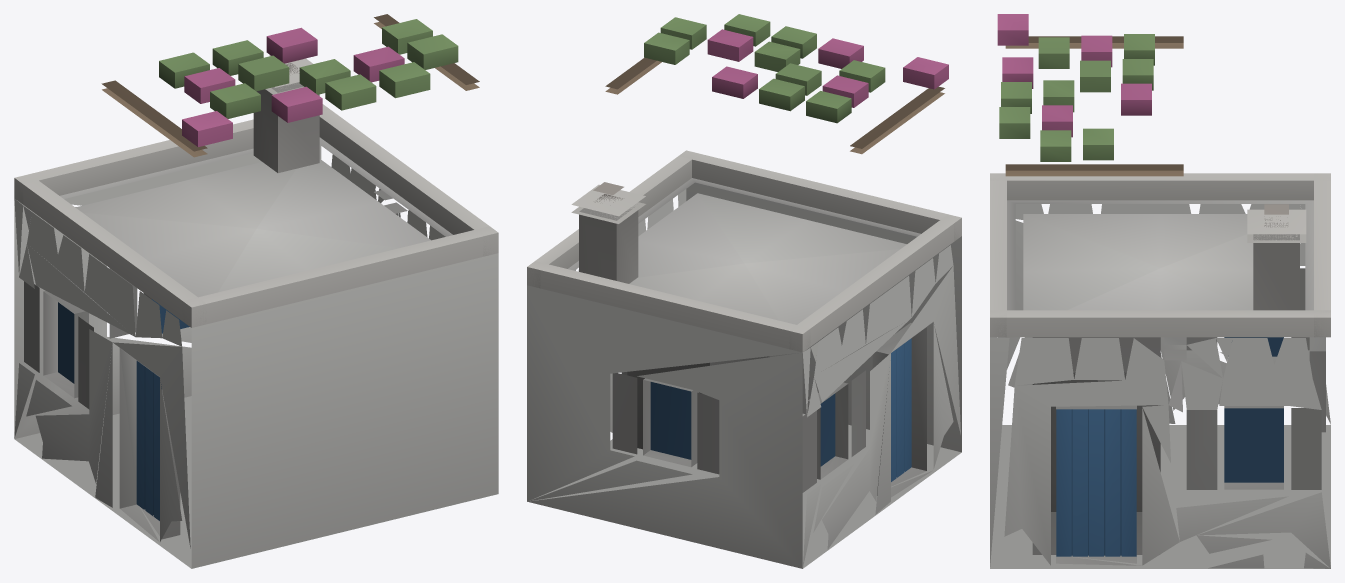
The picture shows the model from 3 angles, left to right: view 1: azimuth 30°, elevation 25°; view 2: azimuth 150°, elevation 25°; view 3: azimuth 270°, elevation 25°; orthographic projection. The views are drawn at different scales.
Parts seen in each view (by area): view 1: cube1p; view 2: cube1p; view 3: cube1p.
Part boxes in pixels (<box>): cube1p: <box>14,14,498,568</box>; cube1p: <box>527,14,961,568</box>; cube1p: <box>990,14,1330,568</box>.
Bounding box in the file's own units: 4.4 × 5.92 × 4.4.
